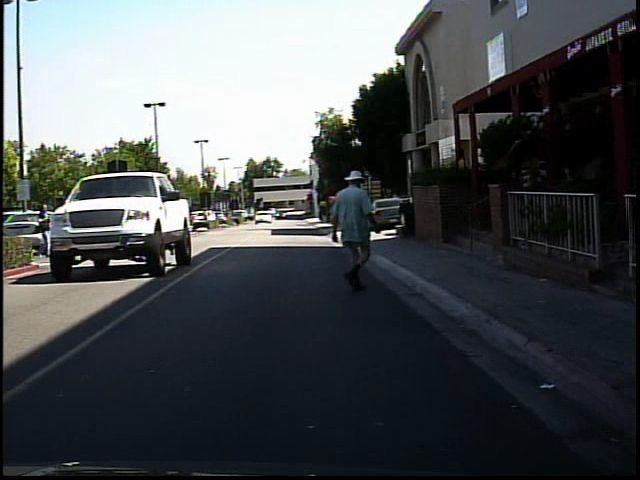person: (326, 164, 385, 295), (38, 200, 53, 264), (199, 204, 215, 228)
